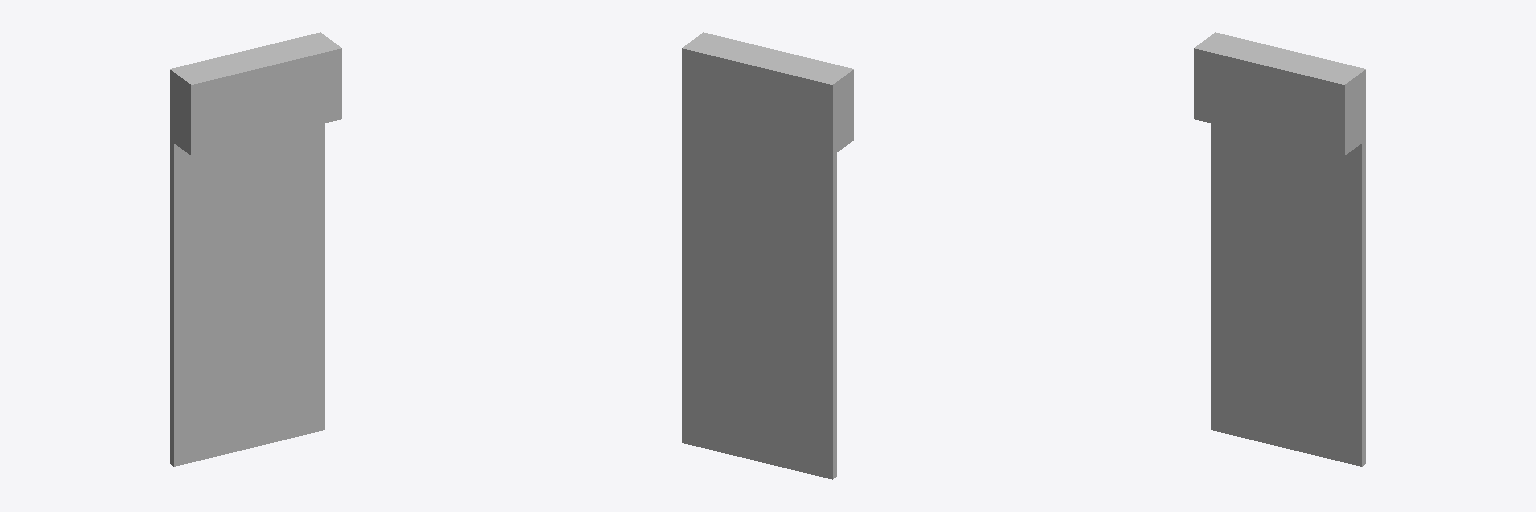
File: glass.obj
3 views of the same model, side by side, from view 1: azimuth 30°, elevation 25°; view 2: azimuth 150°, elevation 25°; view 3: azimuth 330°, elevation 25° (orthographic).
Size of the model in its own units: 20 by 50 by 5.